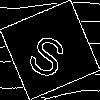S: (25, 25, 73, 80)
